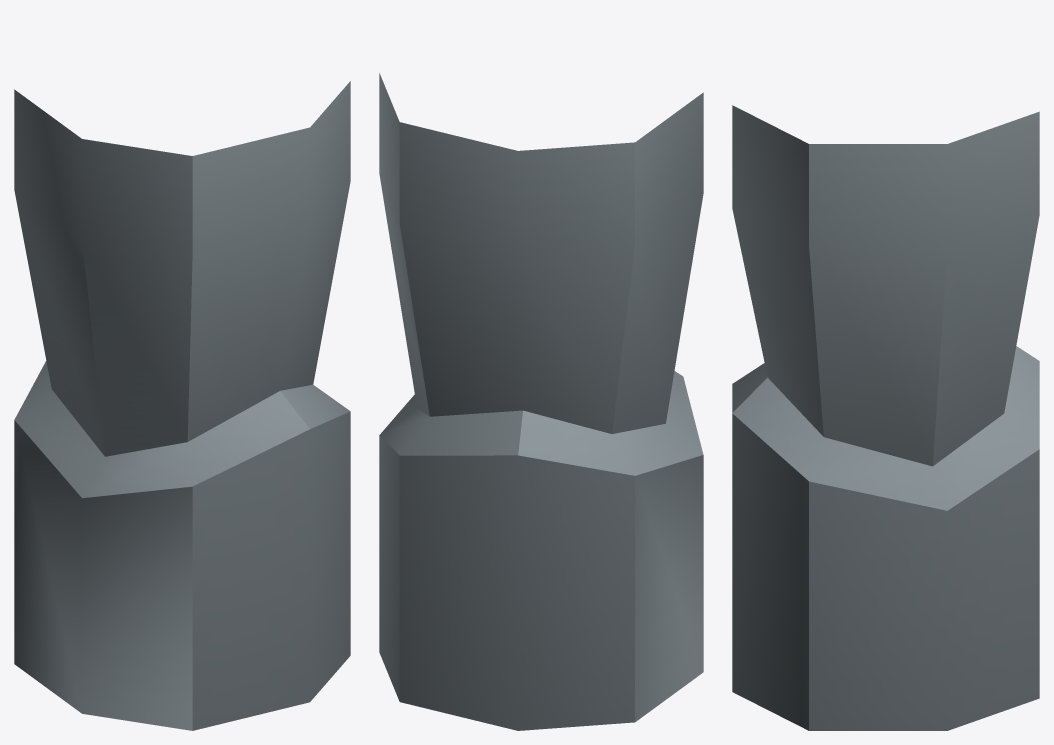
The model's file is Hill_Cliff_Tall_E_Color1.gltf.
3 views of the same model, side by side, from view 1: azimuth 30°, elevation 25°; view 2: azimuth 150°, elevation 25°; view 3: azimuth 270°, elevation 25° (orthographic). The views are drawn at different scales.
Visible parts, largest first — view 1: Hill_Cliff_Tall_E_Color1; view 2: Hill_Cliff_Tall_E_Color1; view 3: Hill_Cliff_Tall_E_Color1.
Part boxes in pixels (bbox=[...]): Hill_Cliff_Tall_E_Color1: bbox=[14, 81, 350, 730]; Hill_Cliff_Tall_E_Color1: bbox=[379, 73, 703, 730]; Hill_Cliff_Tall_E_Color1: bbox=[732, 105, 1039, 730].
Bounding box in the file's own units: 1.9 × 4 × 1.9.
Materials: 1 (1 with a texture image).
